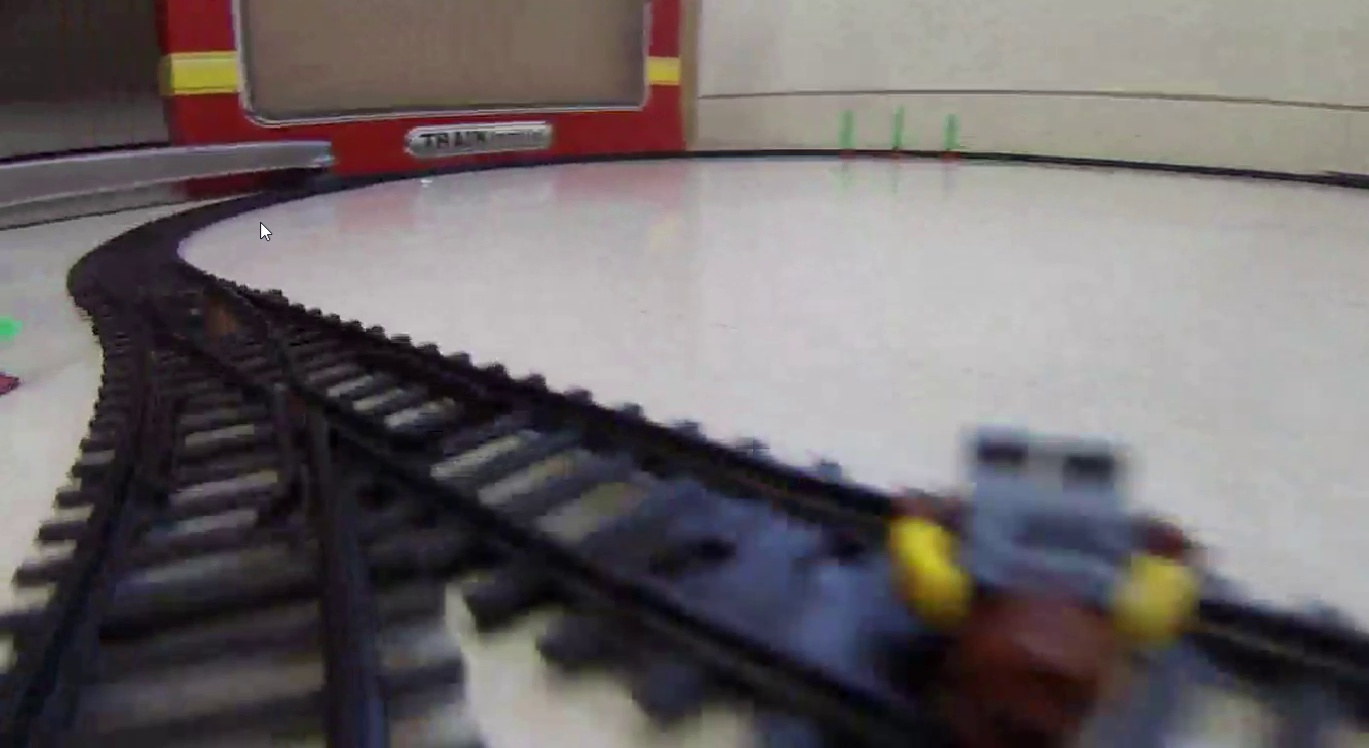people: (898, 419, 1192, 741)
